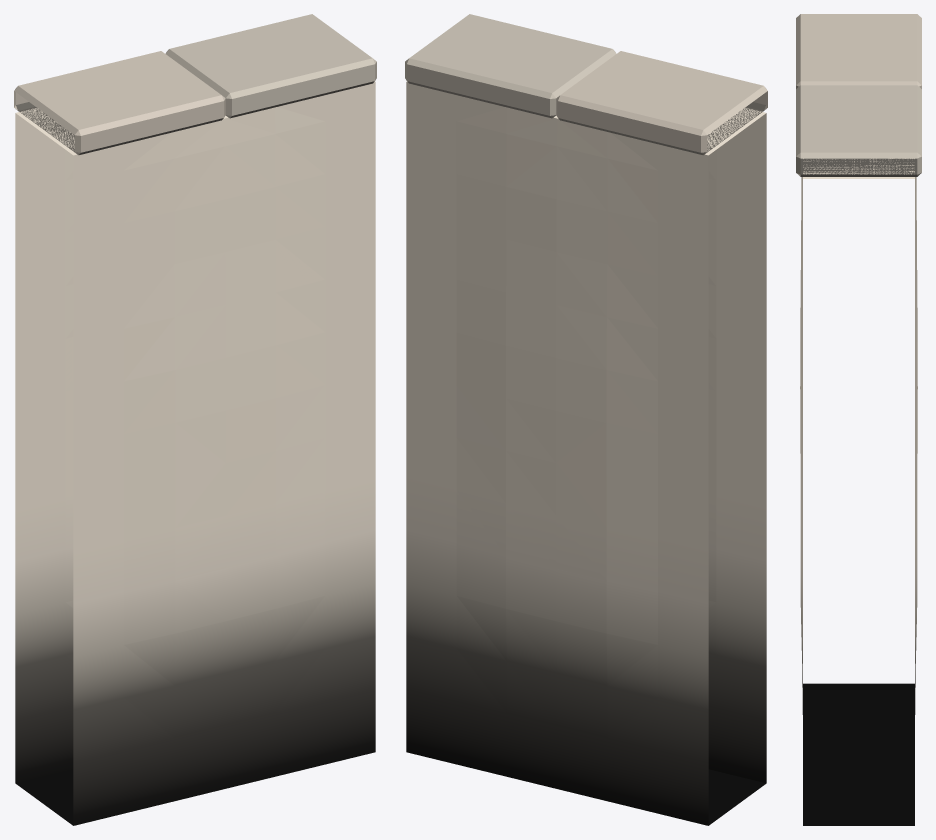
File: SM_VKI_Wall_Sewer_Plain_150A_Full.fbx
3 views of the same model, side by side, from view 1: azimuth 30°, elevation 25°; view 2: azimuth 150°, elevation 25°; view 3: azimuth 270°, elevation 25° (orthographic). The views are drawn at different scales.
Parts seen in each view (by area): view 1: SM_VKI_Wall_Sewer_Plain_150A_Full.001; view 2: SM_VKI_Wall_Sewer_Plain_150A_Full.001; view 3: SM_VKI_Wall_Sewer_Plain_150A_Full.001.
Part boxes in pixels (x1,y1,x2,y2): SM_VKI_Wall_Sewer_Plain_150A_Full.001: [14, 14, 376, 825]; SM_VKI_Wall_Sewer_Plain_150A_Full.001: [405, 14, 767, 825]; SM_VKI_Wall_Sewer_Plain_150A_Full.001: [796, 14, 921, 825].
Bounding box in the file's own units: 1.5 × 3.3 × 0.56.
